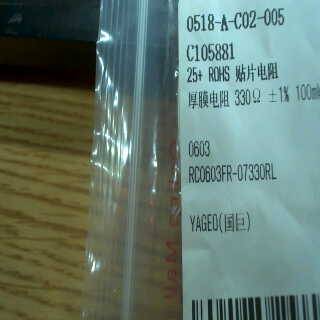330R: (232, 86, 266, 110)
